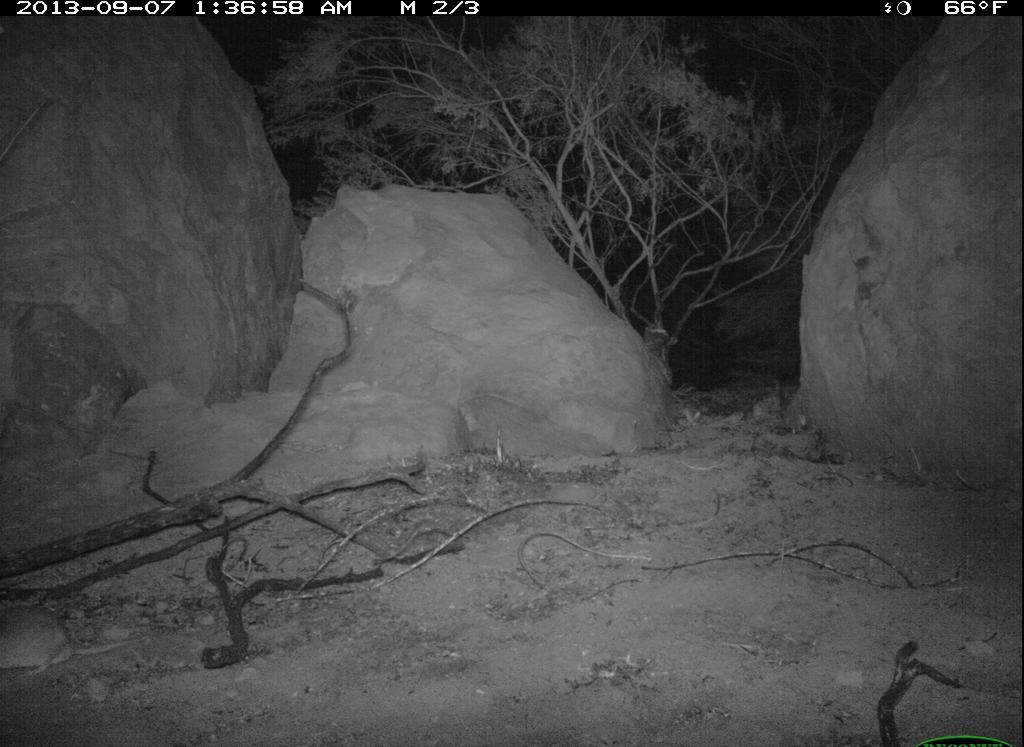rodent: (2, 596, 154, 687)
